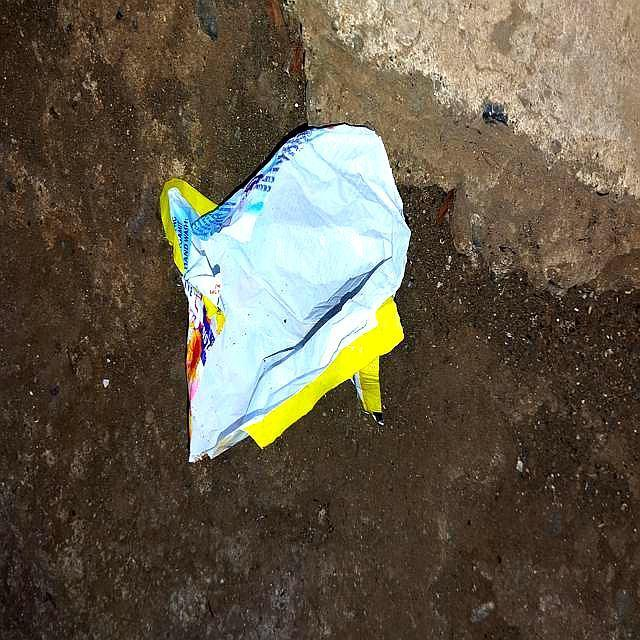Non-biodegradable: (158, 121, 413, 465)
